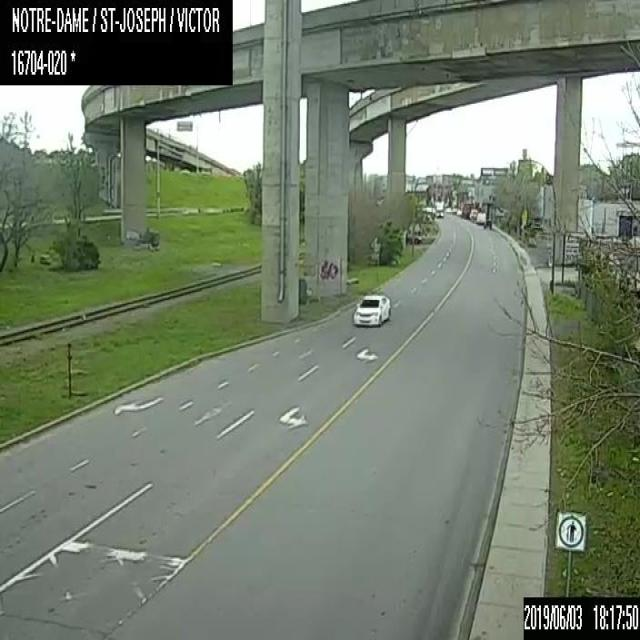vehicle: (352, 294, 390, 324), (435, 202, 443, 217), (476, 212, 484, 223), (469, 208, 476, 218), (451, 208, 456, 213), (456, 210, 461, 214), (446, 207, 450, 212)
